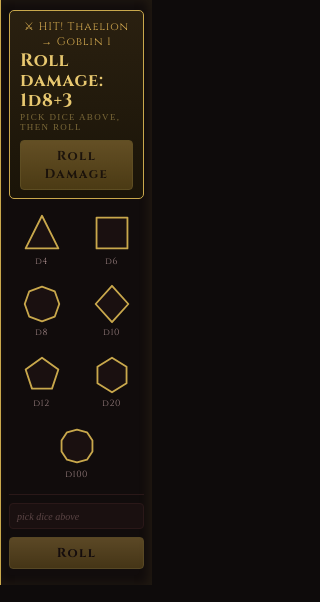
Scenario: DiceTray — AC-004 damage banner › Roll Damage button is enabled after queuing dice
This screenshot has width=320, height=602.
Click the button titled "d8": (42, 311) [9,278,74,344]
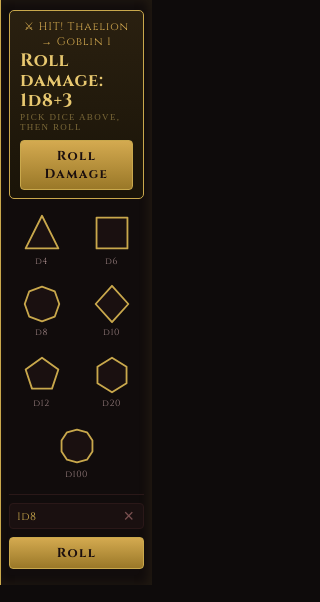
expect the button "Roll Damage" is enabled: met, box [20,140,133,190]
